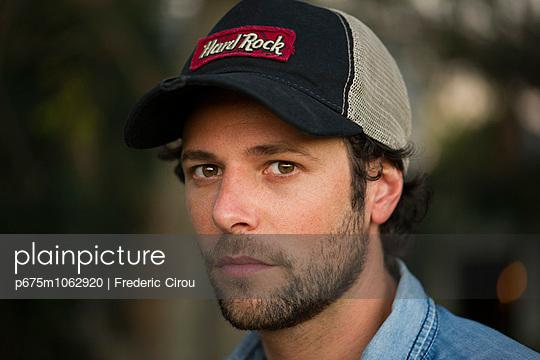cap: (110, 0, 422, 164)
